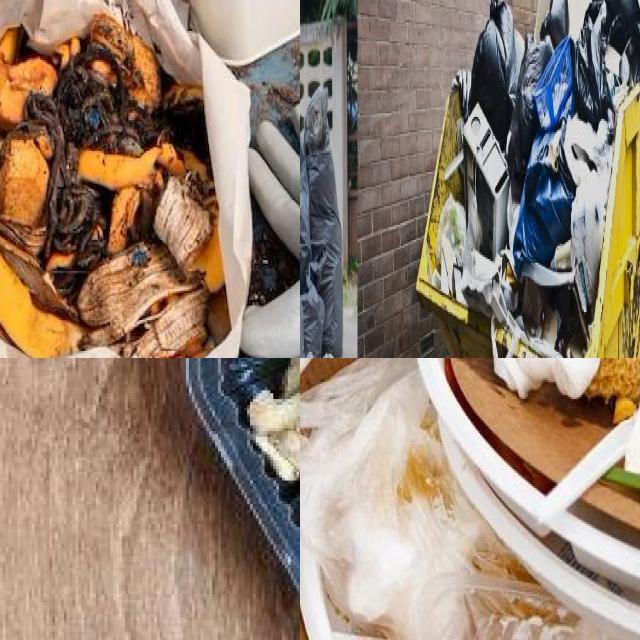Disposable: (418, 358, 640, 591), (440, 424, 640, 640), (300, 546, 334, 640)
E_waste: (464, 100, 508, 258)
Garbage: (300, 358, 640, 640), (426, 0, 640, 358)
Plastic: (535, 38, 573, 131)
Plastic_Bag: (304, 85, 343, 357), (514, 131, 573, 282), (507, 38, 552, 199), (470, 0, 515, 150), (570, 168, 610, 313), (300, 133, 324, 358), (573, 2, 611, 131), (605, 0, 640, 54), (540, 0, 568, 49), (625, 23, 640, 85)
contaminated_waste: (450, 358, 613, 481), (415, 576, 614, 640), (583, 482, 640, 531)
